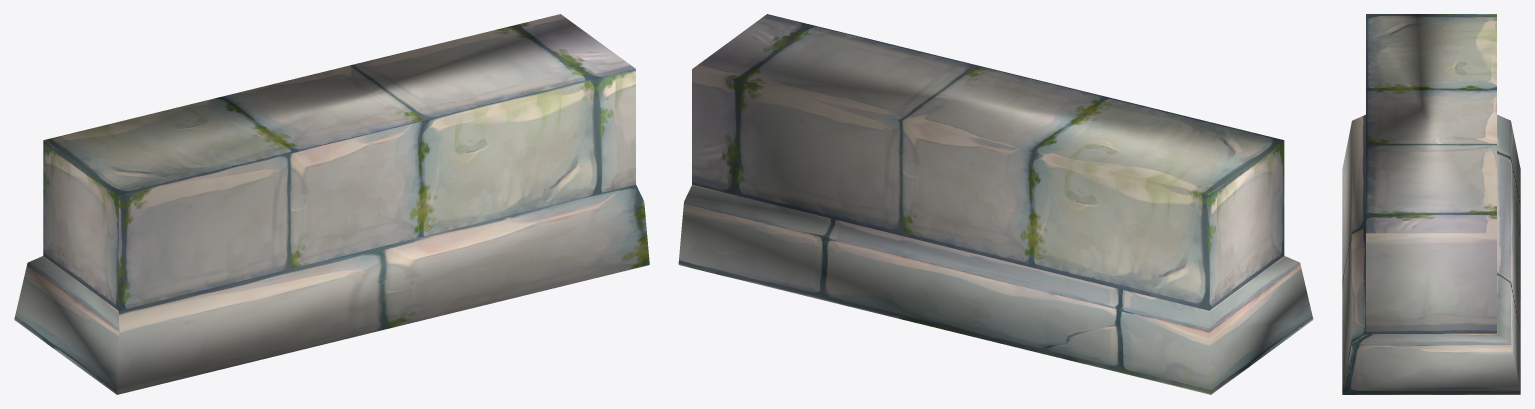
Rendered from geo_temple_obstacle_02.fbx.
3 renders of one model, left to right at view 1: azimuth 30°, elevation 25°; view 2: azimuth 150°, elevation 25°; view 3: azimuth 270°, elevation 25°, orthographic. The views are drawn at different scales.
Parts seen in each view (by area): view 1: geo_Temple_Stair_LP.010; view 2: geo_Temple_Stair_LP.010; view 3: geo_Temple_Stair_LP.010.
Part boxes in pixels (left/top/right/bottom): geo_Temple_Stair_LP.010: left=14, top=14, right=649, bottom=394; geo_Temple_Stair_LP.010: left=678, top=14, right=1313, bottom=394; geo_Temple_Stair_LP.010: left=1342, top=14, right=1520, bottom=394.
Size of the model in its own units: 3 by 1 by 1.
